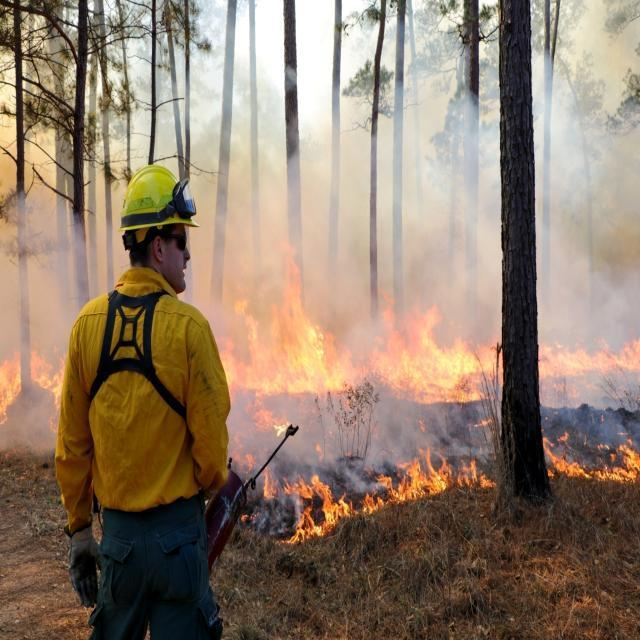Fire: (235, 272, 498, 399), (270, 464, 426, 544), (541, 407, 640, 489), (420, 449, 496, 504)
Smoke: (194, 4, 640, 393)
